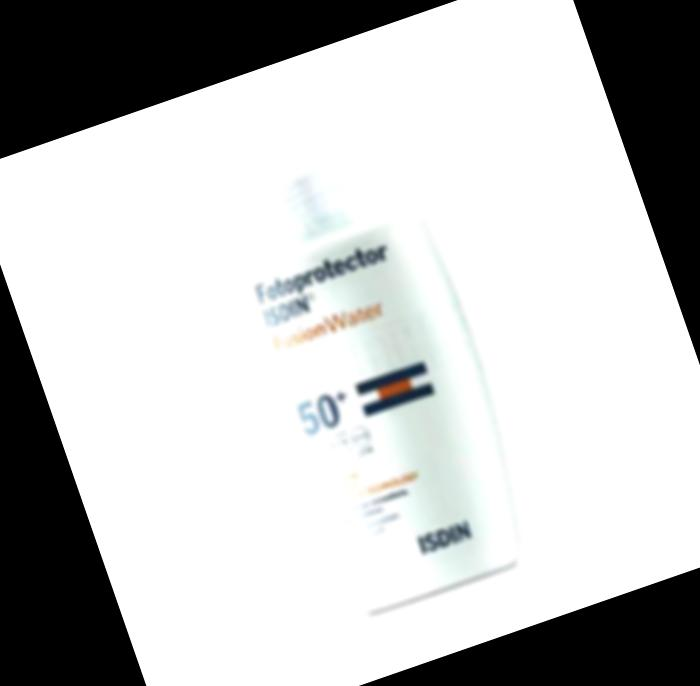cosmetic: (184, 96, 549, 628)
